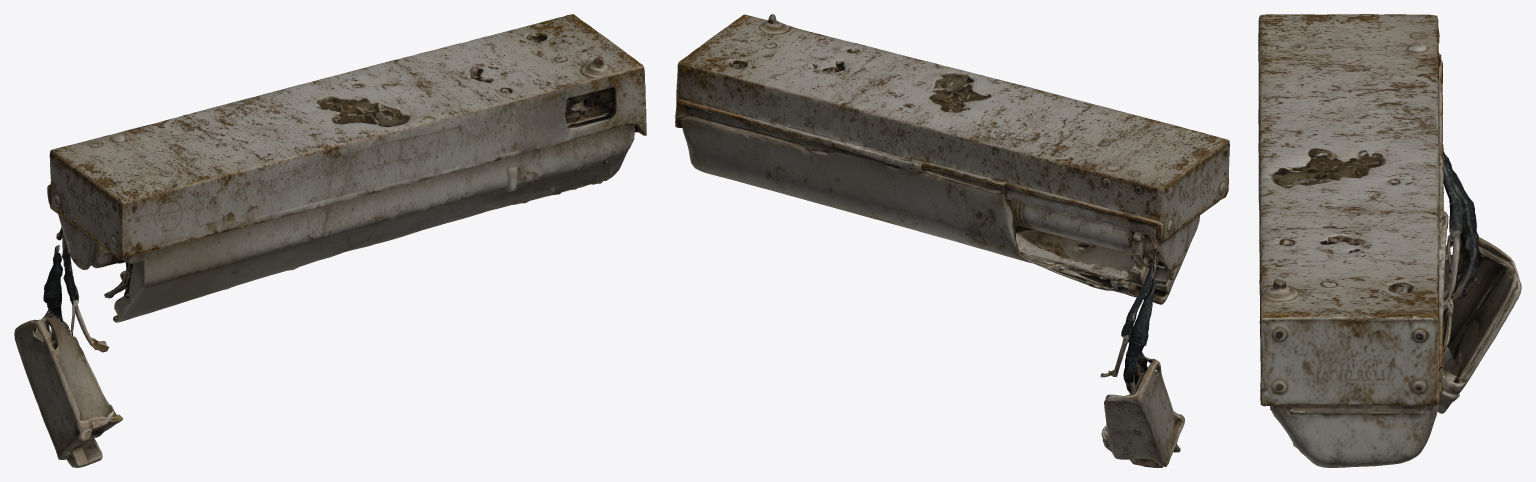
File: CeilingLight.fbx
The picture shows the model from 3 angles, left to right: view 1: azimuth 30°, elevation 25°; view 2: azimuth 150°, elevation 25°; view 3: azimuth 270°, elevation 25°; orthographic projection. The views are drawn at different scales.
Visible parts, largest first — view 1: texture_mapping; view 2: texture_mapping; view 3: texture_mapping.
Boxes of the visible parts, left/top/right/bottom form: texture_mapping: left=14, top=14, right=646, bottom=467; texture_mapping: left=675, top=14, right=1229, bottom=467; texture_mapping: left=1258, top=14, right=1521, bottom=467.
Size of the model in its own units: 0.9999 by 0.3471 by 0.6004.
1 material, 1 textured.
